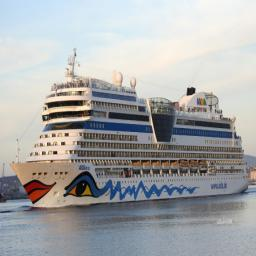cruises: (11, 41, 254, 212)
